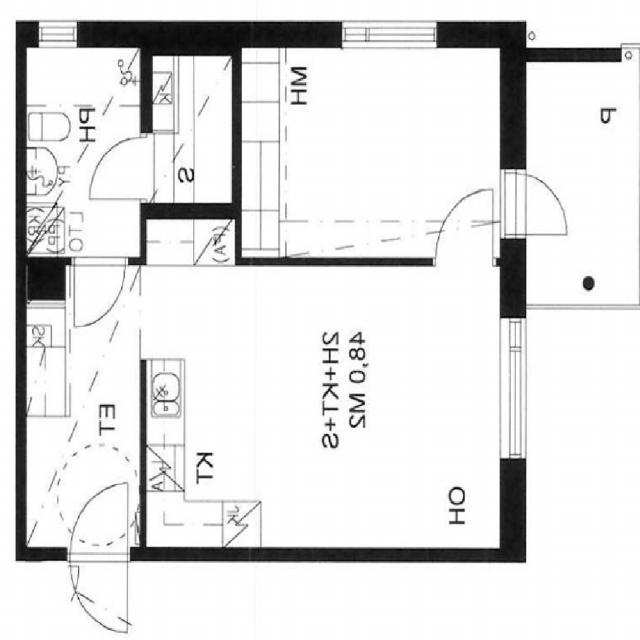door: (71, 549, 128, 633), (71, 479, 128, 562), (436, 187, 493, 265), (500, 174, 574, 234), (74, 258, 126, 328), (91, 137, 147, 199)
